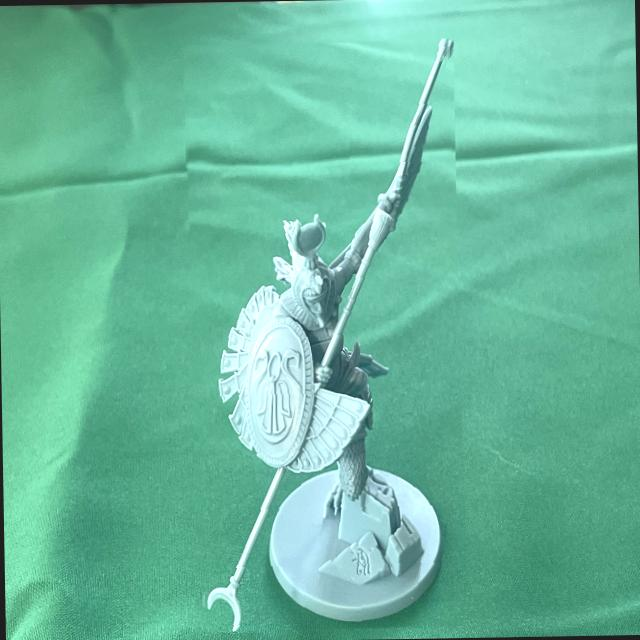isis: (184, 39, 466, 632)
